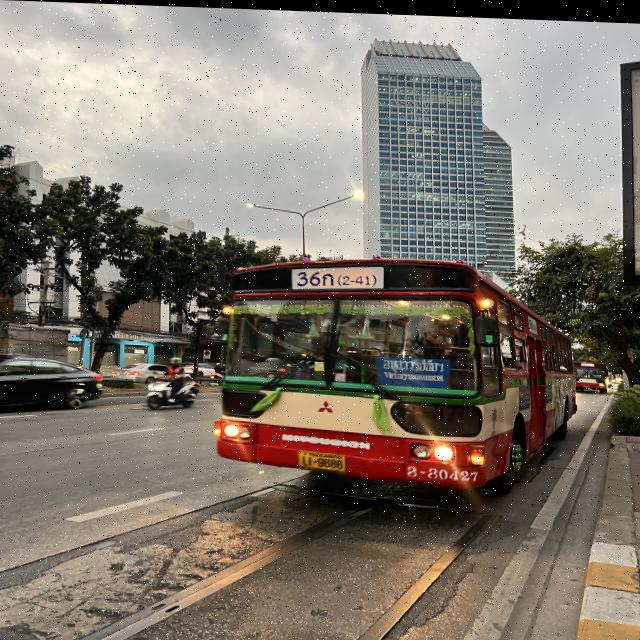BMTA-bus: (212, 255, 578, 492)
Bus Line Number: (289, 265, 385, 289)
Bus Side Number: (400, 460, 482, 485)
Destination Sign: (376, 354, 451, 384)
